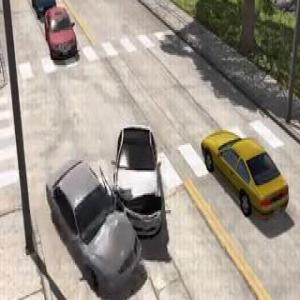low_impact: (42, 120, 171, 300)
